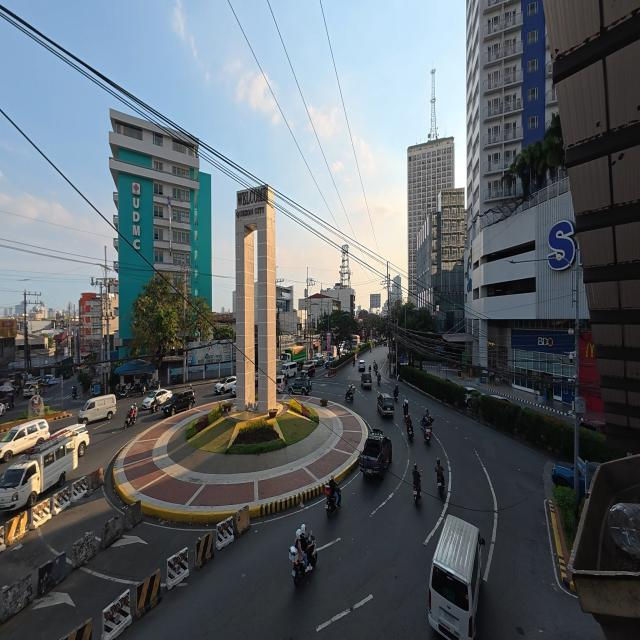car: (162, 390, 196, 416), (579, 458, 599, 499), (142, 389, 172, 409), (73, 424, 89, 457), (289, 376, 312, 395), (377, 394, 394, 417), (215, 376, 236, 394), (580, 420, 605, 434), (465, 387, 481, 407), (490, 394, 511, 403), (361, 373, 372, 388), (303, 363, 315, 376), (325, 356, 335, 368), (314, 355, 324, 366), (42, 375, 54, 383), (49, 377, 61, 385), (359, 360, 366, 372), (303, 360, 314, 367), (0, 403, 6, 415), (231, 383, 236, 397), (255, 372, 258, 385)
motorcycle: (289, 547, 305, 586), (324, 485, 341, 517), (124, 412, 136, 428), (406, 415, 413, 441), (149, 400, 160, 414), (414, 486, 421, 506), (437, 476, 444, 496), (345, 387, 354, 402), (424, 425, 431, 444), (118, 388, 129, 399), (394, 390, 399, 402), (72, 389, 77, 399), (377, 374, 380, 386), (353, 361, 355, 366)
trucks: (360, 429, 392, 477), (281, 346, 306, 368)
vans: (429, 515, 484, 638), (0, 430, 77, 510), (0, 419, 49, 461), (78, 394, 116, 424), (282, 362, 297, 378), (23, 382, 38, 397), (276, 374, 284, 392)
